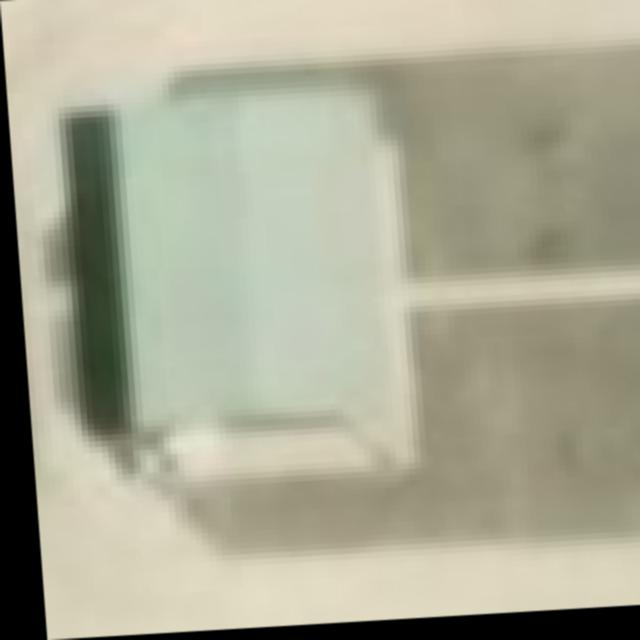Batiment: (114, 83, 406, 481)
